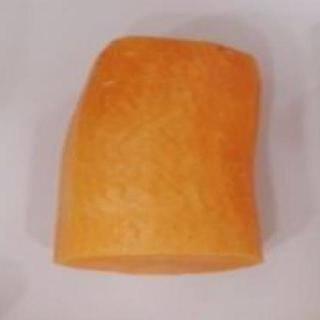carrot: (29, 31, 290, 291)
